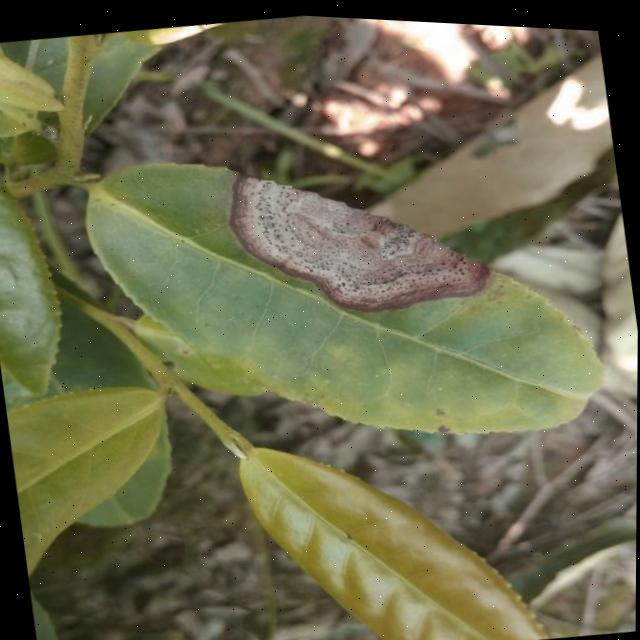Tea cloud leaf blight: (224, 149, 476, 323)
